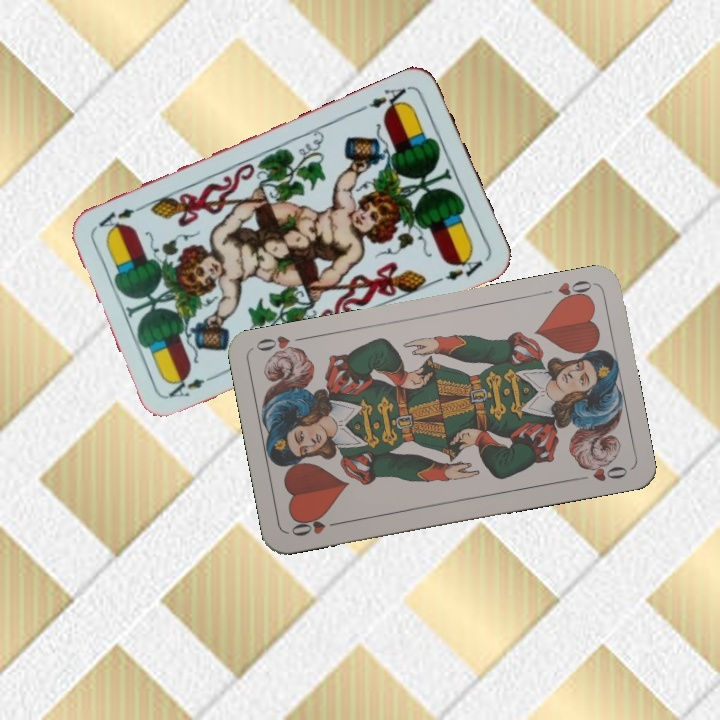EA: (164, 370, 221, 400), (364, 82, 412, 116)
HO: (537, 276, 595, 307), (287, 512, 345, 539)
